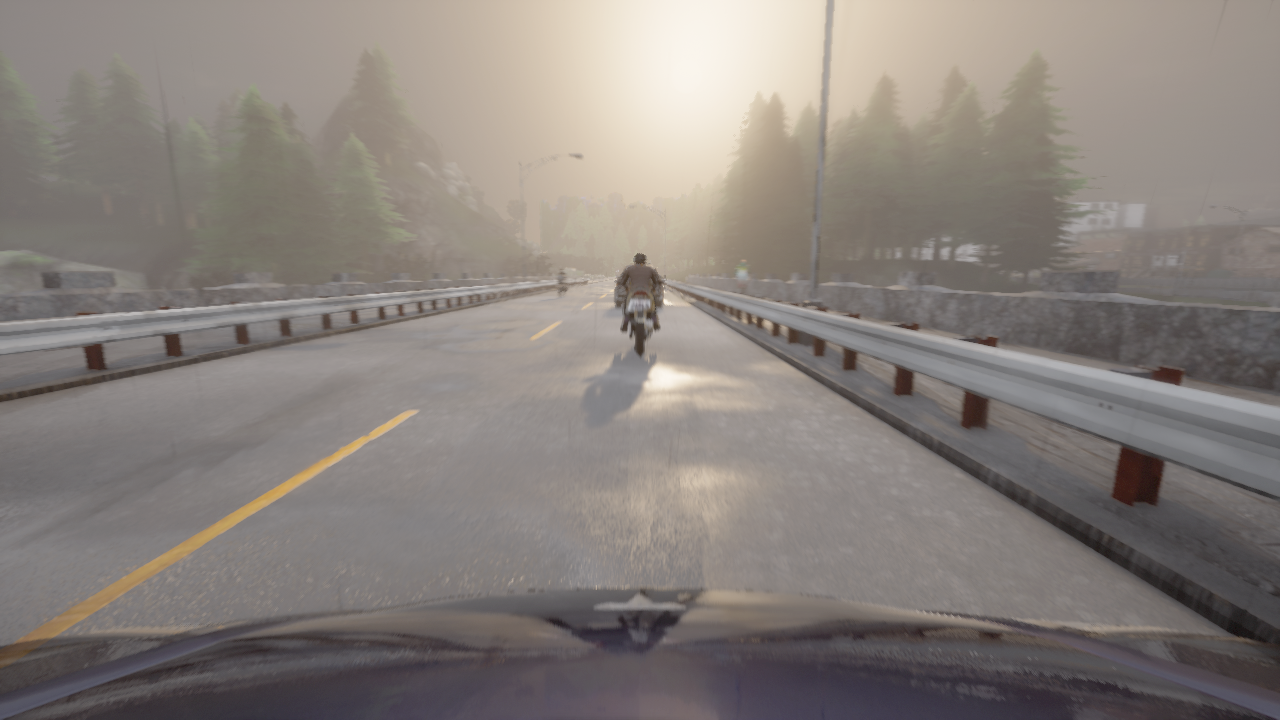cyclist: (0, 588, 1279, 719), (616, 281, 664, 356), (615, 264, 662, 307), (552, 274, 568, 297)
pedestrian: (735, 259, 750, 293)
